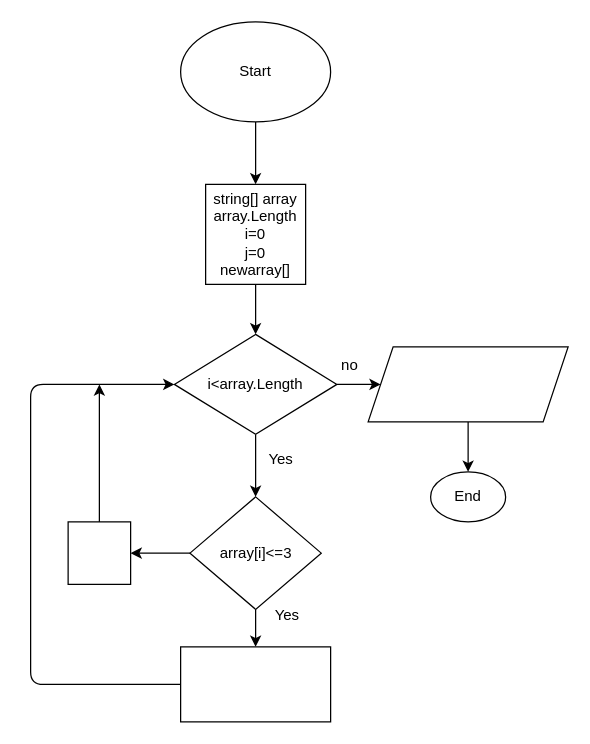
The diagram is 590 pixels wide and 744 high, and some of its shapes have lost their labels. The shapes that lost their labels are listed below. From the top down, each one's centre as x and y in pixels, then its label:
At (x=467, y=384): "print newarray[i]".
At (x=99, y=552): "i++".
At (x=255, y=684): "newarray [i] = array[i] j++".
